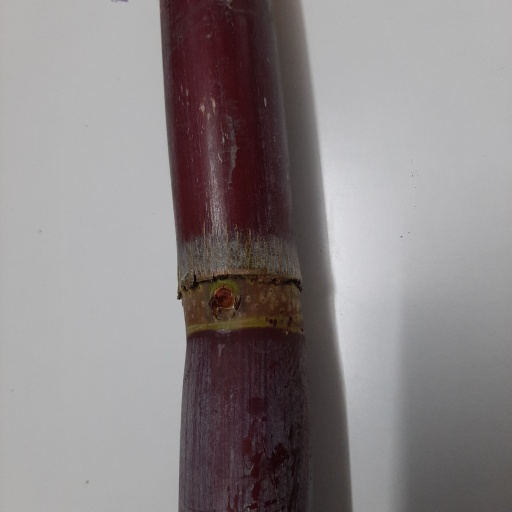Damage_Bud: (208, 285, 237, 319)
